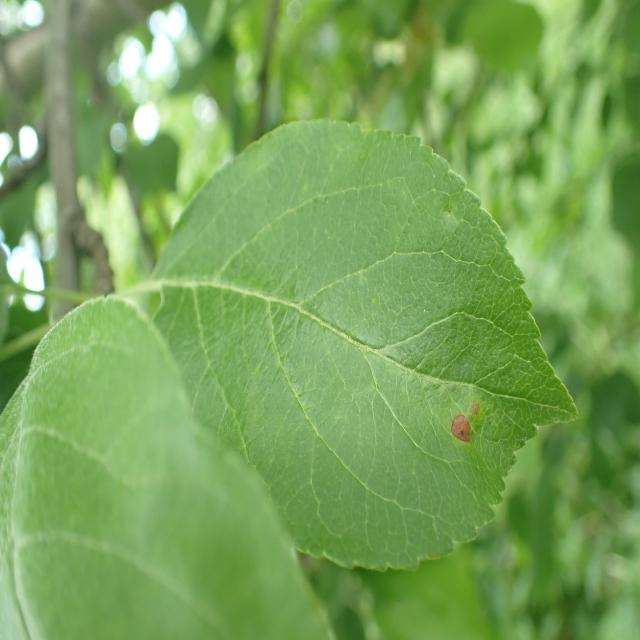Black Rot: (436, 381, 484, 474)
